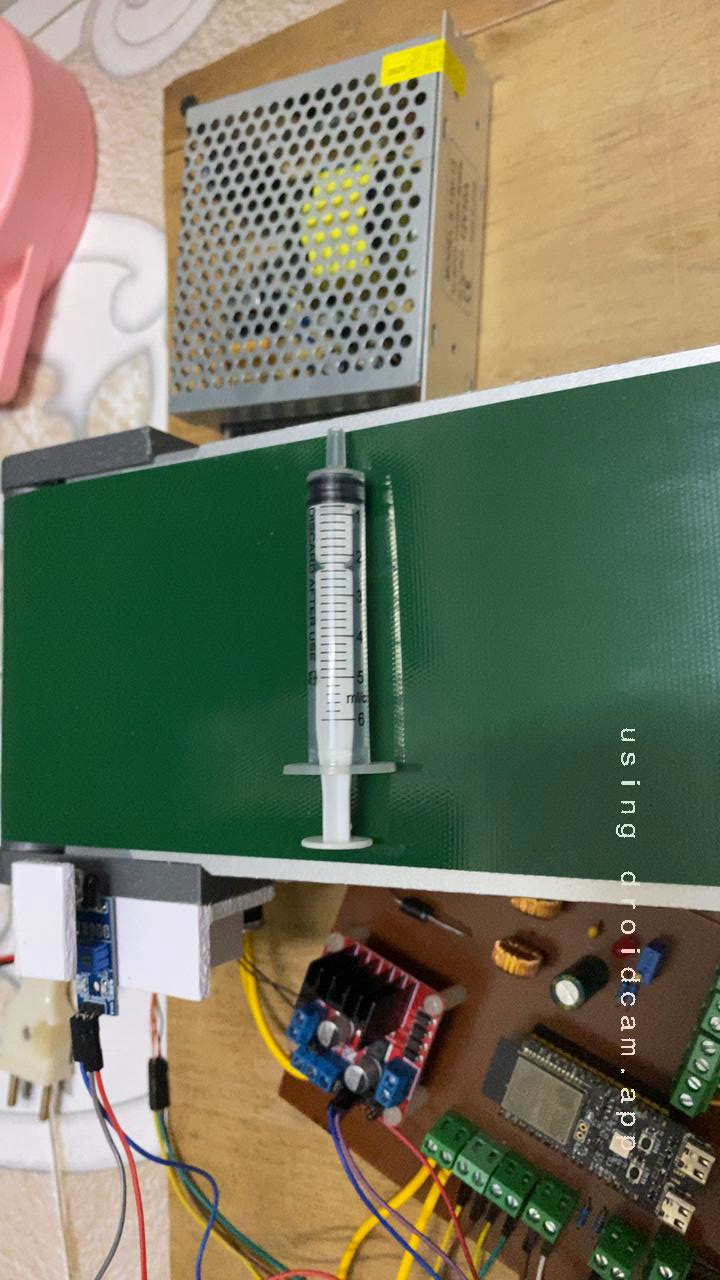syringe: (246, 435, 426, 909)
